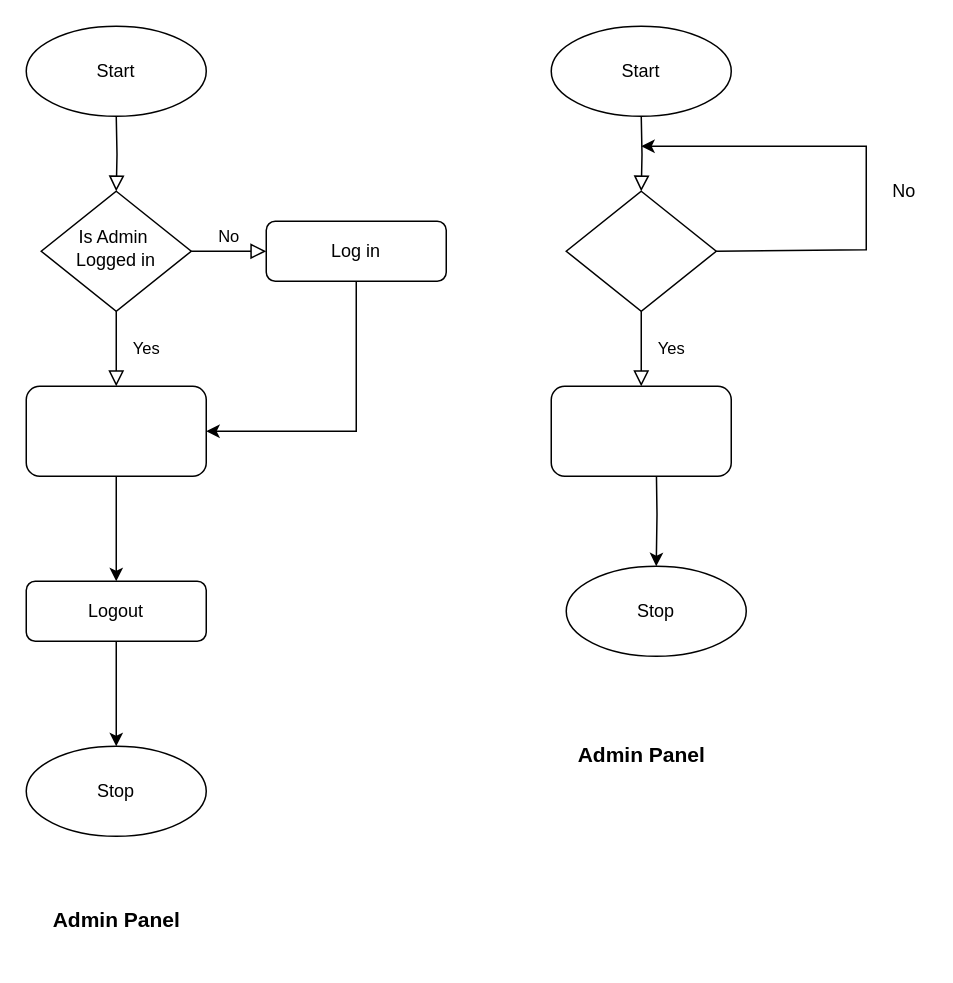
Some shapes in this 953 by 983 pixel diagram are drawn without their labels. Here are the shapes that lost their labels. From the top down, the box of each, then its label:
(565, 190, 716, 311): Is valid user ID entered?
(25, 385, 206, 476): Start Election
(550, 385, 731, 476): Vote Candidate
